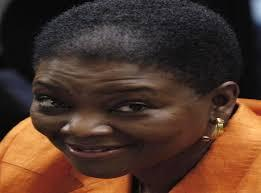Persons: (24, 4, 242, 184)
